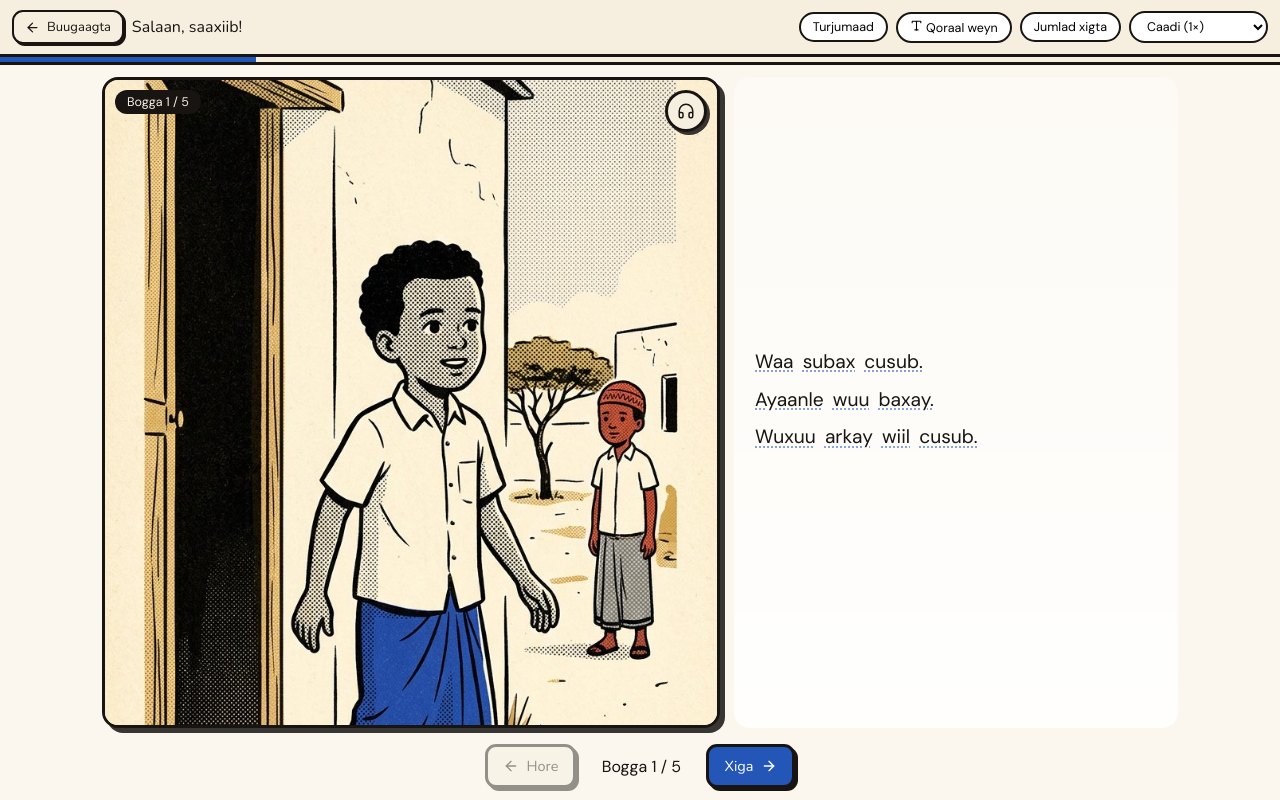
Scenario: book reader › reports audio honestly instead of playing fake recordings
The image size is (1280, 800).
Step 1. Click the button named "Dhegayso bogga" → (686, 111), box x1=665 y1=90 x2=707 y2=132
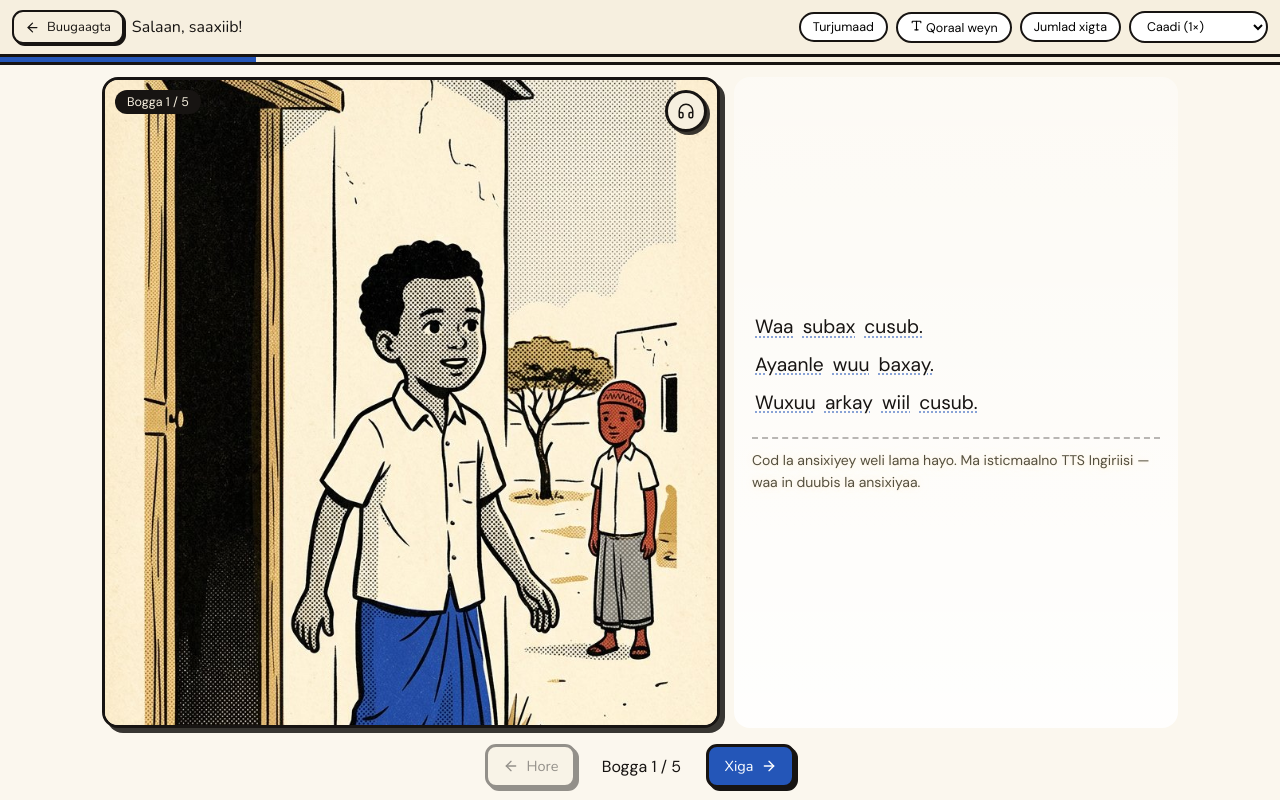
Expected: the message shows "weli lama hayo", x1=752 y1=451 x2=1149 y2=491
Expected: the message shows "TTS", x1=752 y1=451 x2=1149 y2=491
